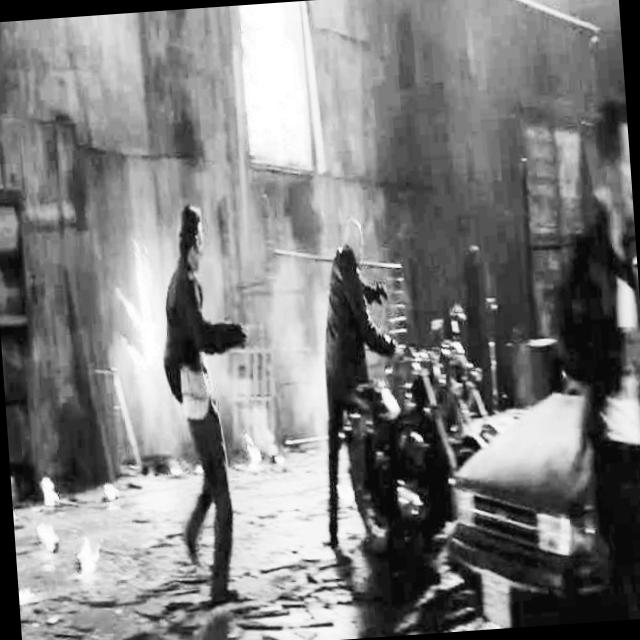Motorcycle: (312, 367, 446, 548), (407, 307, 480, 522)
